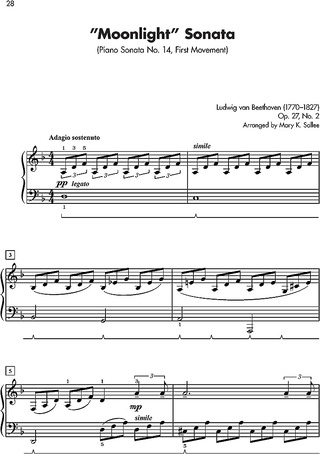Partitura: (3, 14, 320, 449)
